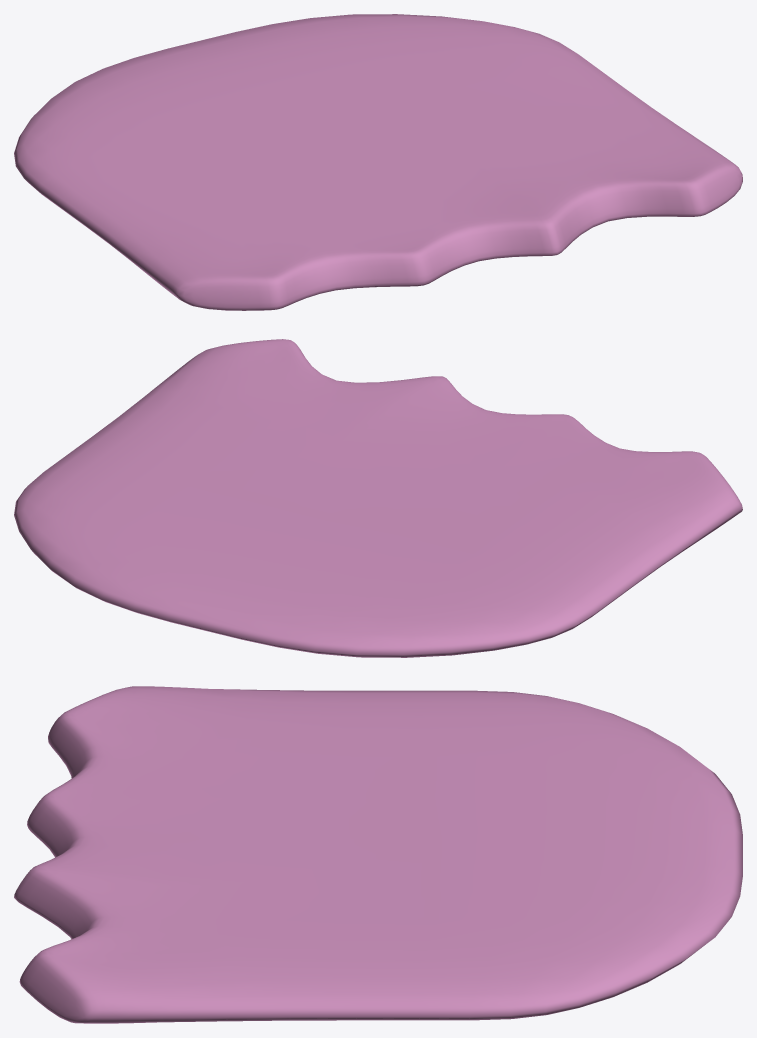
The model's file is CapePieceEnd_TornFront.fbx.
3 renders of one model, top to bottom at view 1: azimuth 30°, elevation 25°; view 2: azimuth 150°, elevation 25°; view 3: azimuth 270°, elevation 25°, orthographic. The views are drawn at different scales.
Visible parts, largest first — view 1: CapePieceEnd_TornFront; view 2: CapePieceEnd_TornFront; view 3: CapePieceEnd_TornFront.
Boxes of the visible parts, x1,y1,x2,y2 form: CapePieceEnd_TornFront: (14,14,742,310); CapePieceEnd_TornFront: (14,339,742,657); CapePieceEnd_TornFront: (14,686,742,1023).
Size of the model in its own units: 0.7837 by 0.0479 by 0.7437.
